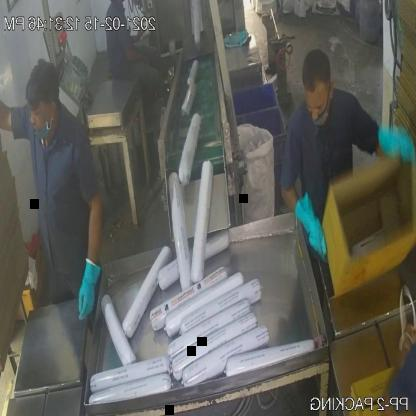glove: (68, 235, 108, 328), (294, 176, 338, 257), (370, 115, 415, 172)
